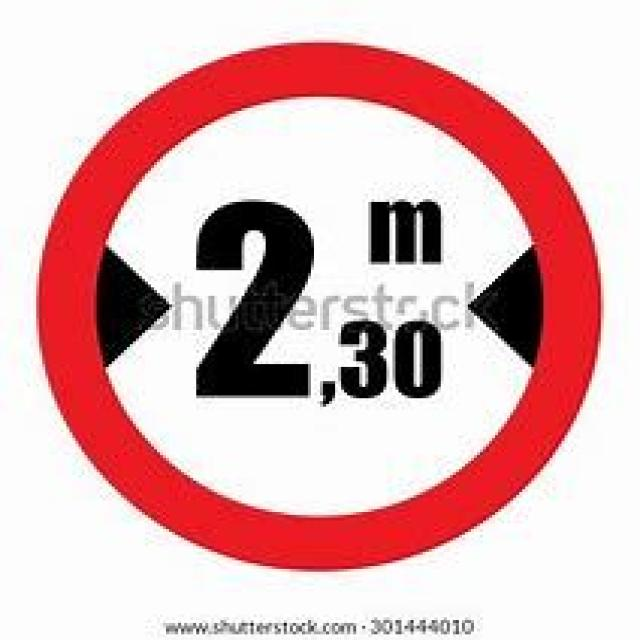WIDTH_LIMIT: (26, 25, 609, 584)
